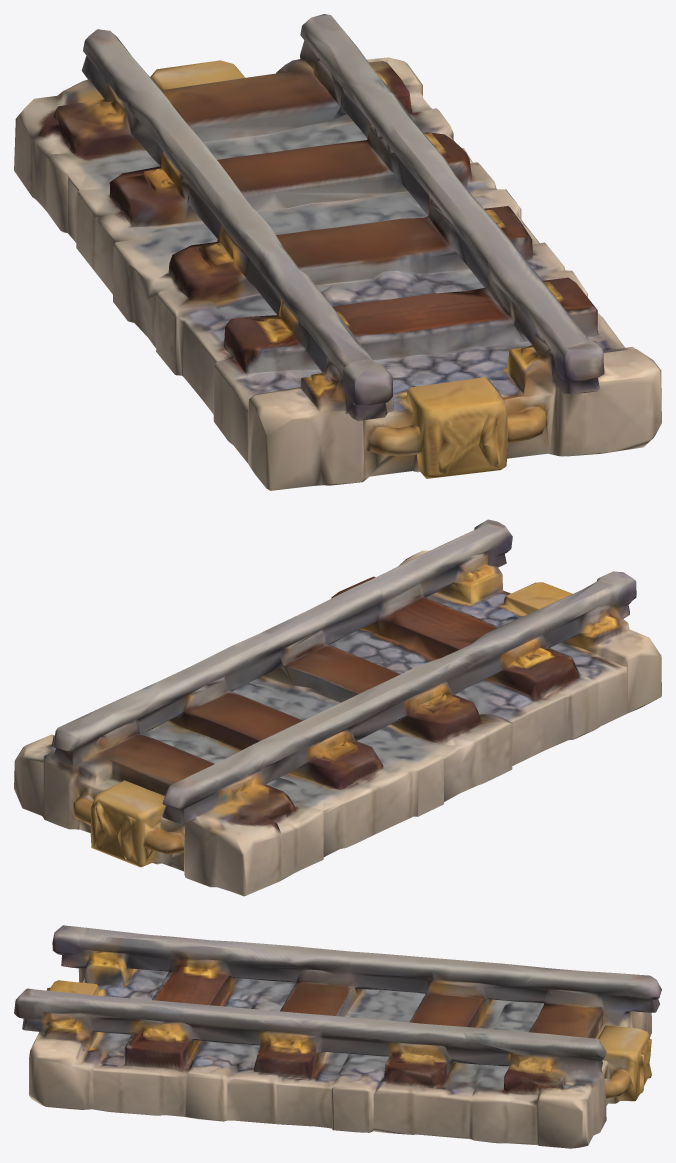
The model's file is 通电轨道单节.glb.
3 views of the same model, one above another, from view 1: azimuth 30°, elevation 25°; view 2: azimuth 150°, elevation 25°; view 3: azimuth 270°, elevation 25° (orthographic). The views are drawn at different scales.
Parts seen in each view (by area): view 1: 通电轨道单节; view 2: 通电轨道单节; view 3: 通电轨道单节.
Boxes of the visible parts, x1=… form: 通电轨道单节: x1=14, y1=14, x2=661, y2=490; 通电轨道单节: x1=14, y1=519, x2=661, y2=896; 通电轨道单节: x1=14, y1=925, x2=661, y2=1148.
Bounding box in the file's own units: 0.1887 × 0.045 × 0.3138.
Materials: 1 (1 with a texture image).
